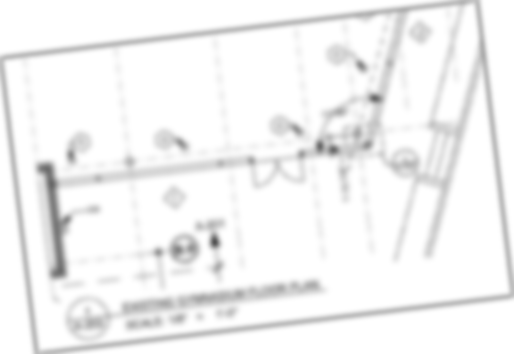double door: (250, 152, 309, 188)
